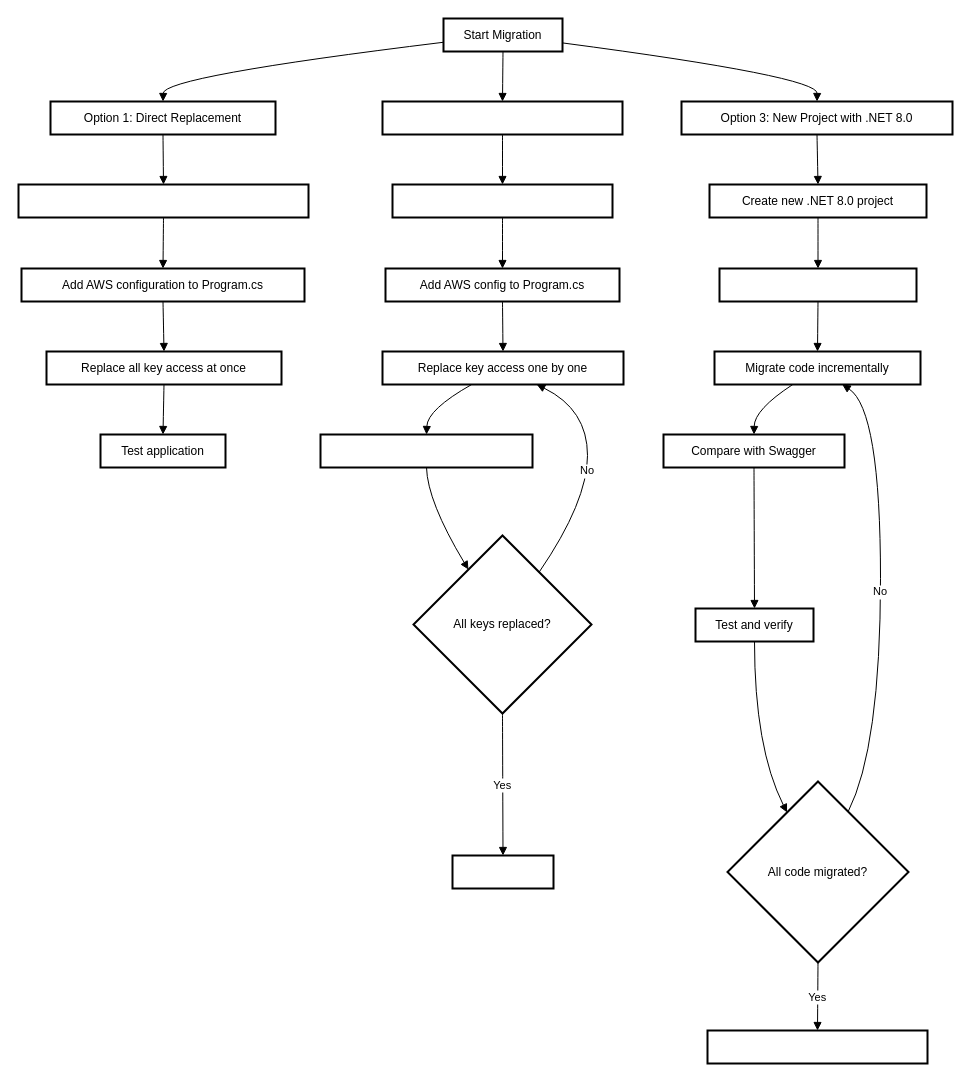
This 970x1081 diagram has some shape labels left out. Each missing label, with the box of its shape:
Final testing: (451, 854, 554, 889)
Final testing and deployment: (706, 1029, 928, 1064)
Option 2: Gradual Replacement: (381, 100, 623, 135)
Remove Azure config from Program.cs: (17, 183, 309, 218)
Run existing code with Azure: (391, 183, 613, 218)
Set up AWS configuration: (718, 267, 917, 302)
Test after each replacement: (319, 433, 533, 468)
